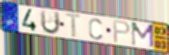4: (21, 8, 39, 33)
C: (88, 17, 104, 41)
M: (131, 21, 155, 49)
P: (112, 20, 131, 44)
T: (64, 12, 84, 39)
U: (40, 10, 61, 36)
